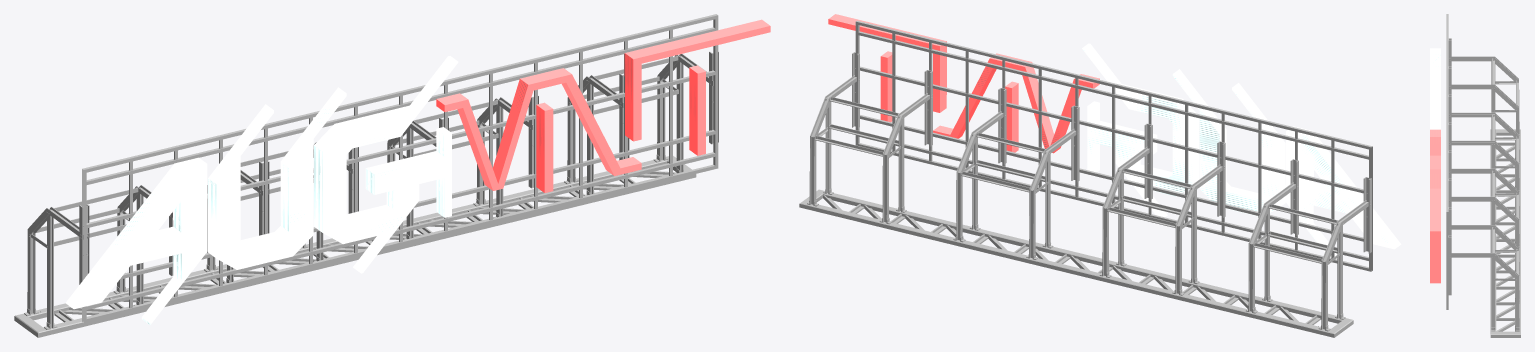
File: KB3D_CBP_NeonSign_D.fbx
The picture shows the model from 3 angles, left to right: view 1: azimuth 30°, elevation 25°; view 2: azimuth 150°, elevation 25°; view 3: azimuth 270°, elevation 25°; orthographic projection. The views are drawn at different scales.
Parts seen in each view (by area): view 1: KB3D_CBP_NeonSign_D_Main; view 2: KB3D_CBP_NeonSign_D_Main; view 3: KB3D_CBP_NeonSign_D_Main.
Part boxes in pixels (x1,y1,x2,y2): KB3D_CBP_NeonSign_D_Main: (14,14,770,337); KB3D_CBP_NeonSign_D_Main: (799,14,1401,337); KB3D_CBP_NeonSign_D_Main: (1430,14,1520,337).
Bounding box in the file's own units: 1164 × 351 × 205.
